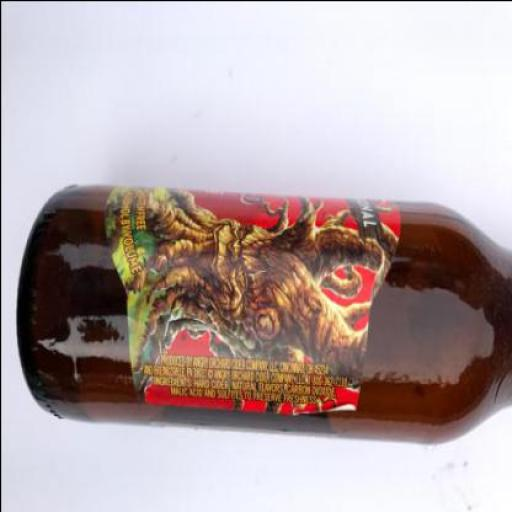glass: (16, 184, 511, 446)
